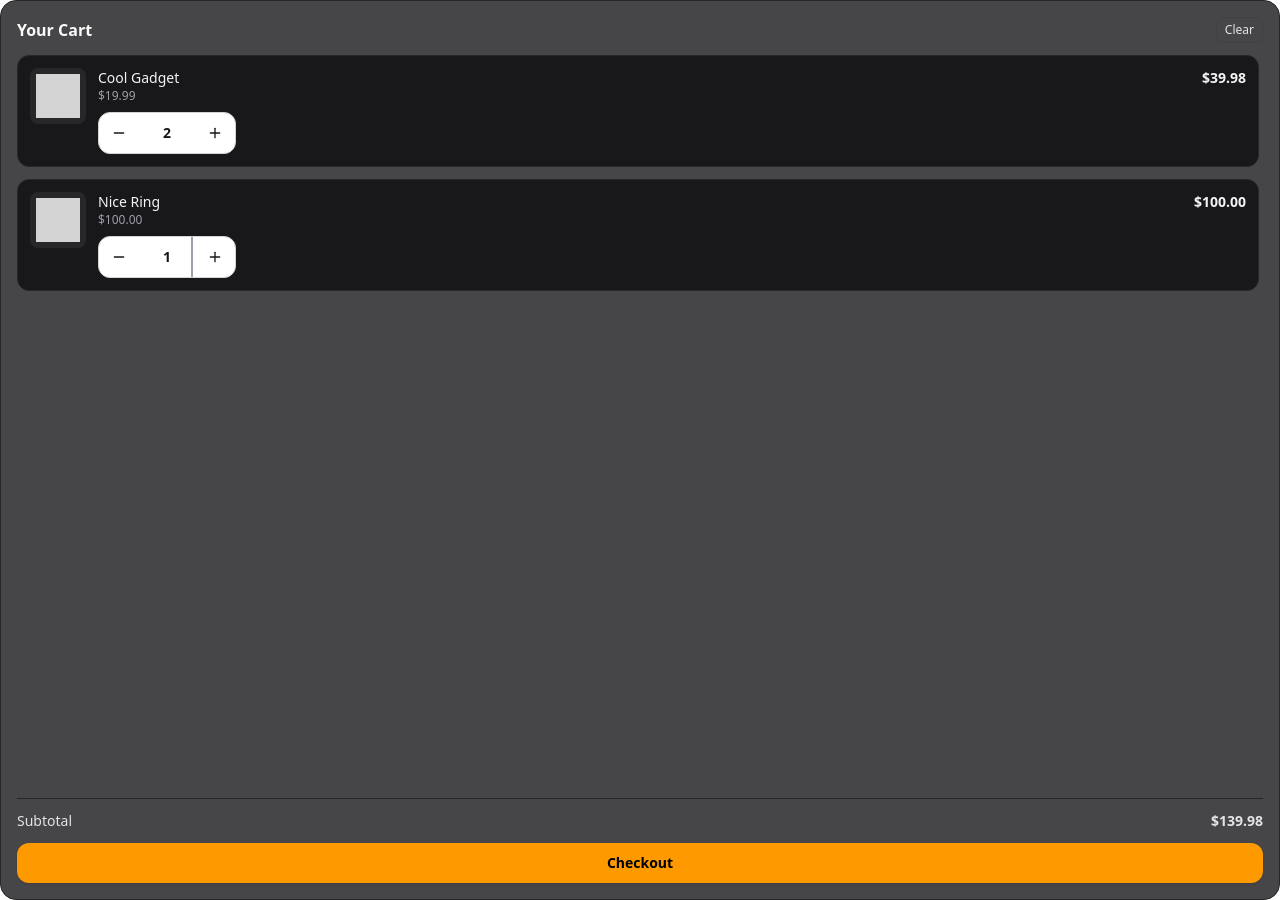
it: Cart › clears the cart and resets subtotal when clicking Clear
Expected: the text with test id "total-price" reads "$139.98", [1211,811,1263,830]
What coordinates should you click on to do the following:
click the button "Clear"
I would click on:
 (1239, 30)
Its box is [1216,17,1263,43].
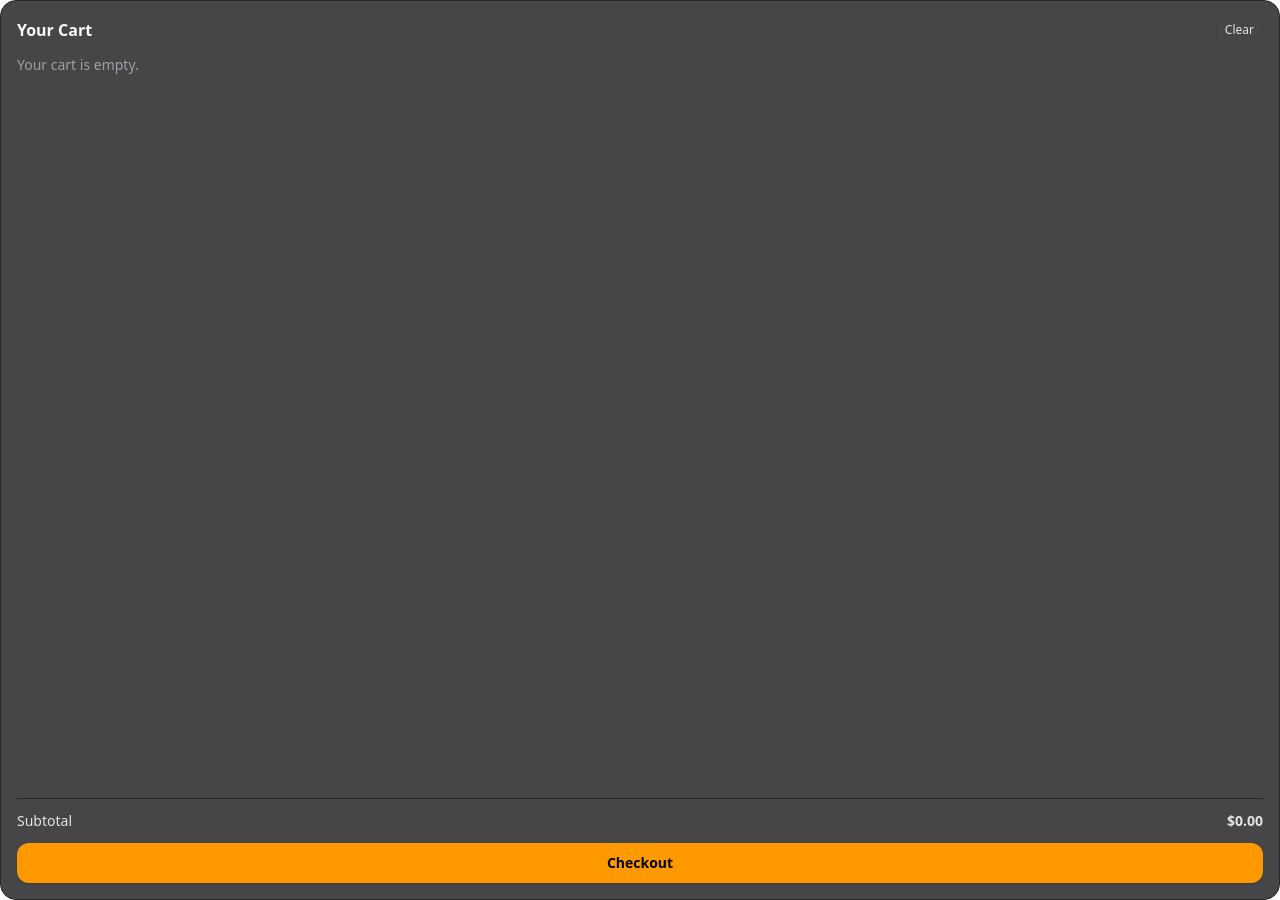
Now the text "Your cart is empty." is shown, box [17,55,139,74]
Now the text with test id "total-price" reads "$0.00", box [1227,811,1263,830]
